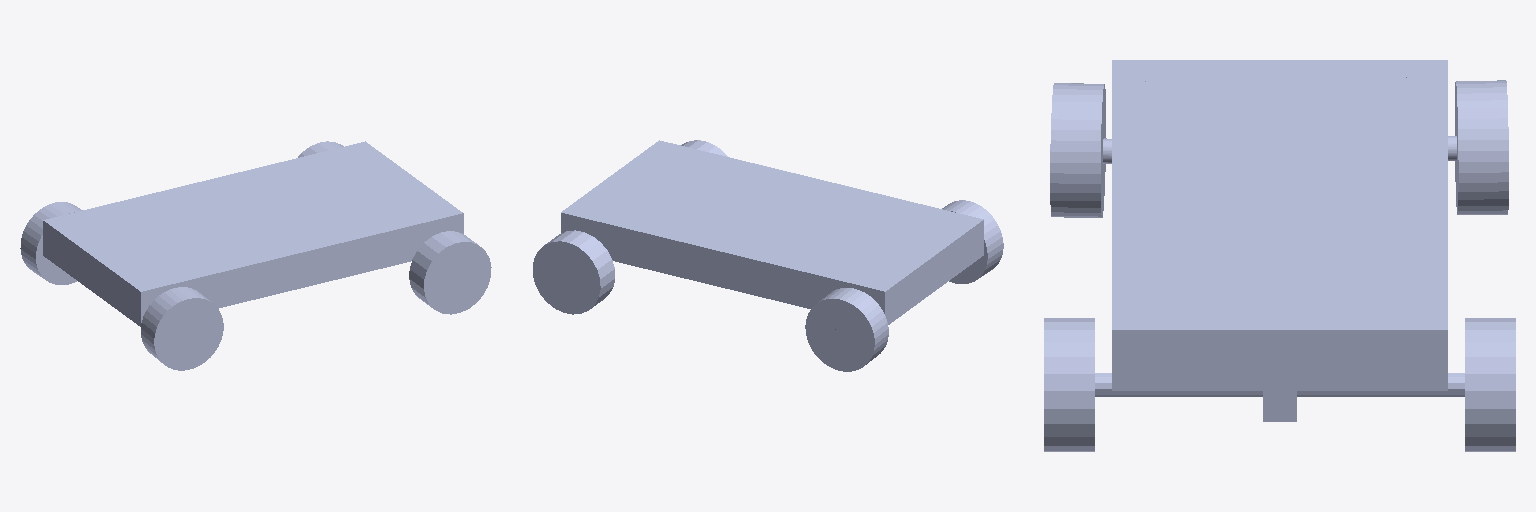
The robot description file, URDF, robot "project1_new_assembly2":
<?xml version="1.0" encoding="utf-8"?>
<!-- This URDF was automatically created by SolidWorks to URDF Exporter! Originally created by [author] ([email redacted]) 
     Commit Version: 1.5.1-0-g916b5db  Build Version: 1.5.7152.31018
     For more information, please see http://wiki.ros.org/sw_urdf_exporter -->
<robot
  name="project1_new_assembly2">
  <link
    name="base_link">
    <inertial>
      <origin
        xyz="0.0059631 0 -0.051314"
        rpy="0 0 0" />
      <mass
        value="49.74" />
      <inertia
        ixx="1.1009"
        ixy="-0.00043013"
        ixz="0.010233"
        iyy="3.9039"
        iyz="9.5286E-18"
        izz="4.9158" />
    </inertial>
    <visual>
      <origin
        xyz="0 0 0"
        rpy="0 0 0" />
      <geometry>
        <mesh
          filename="package://project1_new_assembly2/meshes/base_link.STL" />
      </geometry>
      <material
        name="">
        <color
          rgba="0.79216 0.81961 0.93333 1" />
      </material>
    </visual>
    <collision>
      <origin
        xyz="0 0 0"
        rpy="0 0 0" />
      <geometry>
        <mesh
          filename="package://project1_new_assembly2/meshes/base_link.STL" />
      </geometry>
    </collision>
  </link>
  <link
    name="front_left_Link">
    <inertial>
      <origin
        xyz="0.0319569293194314 -1.38538609029126E-07 0.0793600171802359"
        rpy="0 0 0" />
      <mass
        value="0.404414389551717" />
      <inertia
        ixx="0.000592430878602227"
        ixy="3.69355303175217E-09"
        ixz="-0.000358905617999531"
        iyy="0.0015060372343453"
        iyz="2.24166909807796E-09"
        izz="0.00102373302320884" />
    </inertial>
    <visual>
      <origin
        xyz="0 0 0"
        rpy="0 0 0" />
      <geometry>
        <mesh
          filename="package://project1_new_assembly2/meshes/front_left_Link.STL" />
      </geometry>
      <material
        name="">
        <color
          rgba="0.792156862745098 0.819607843137255 0.933333333333333 1" />
      </material>
    </visual>
    <collision>
      <origin
        xyz="0 0 0"
        rpy="0 0 0" />
      <geometry>
        <mesh
          filename="package://project1_new_assembly2/meshes/front_left_Link.STL" />
      </geometry>
    </collision>
  </link>
  <joint
    name="front_left_joint"
    type="continuous">
    <origin
      xyz="-0.394728266067647 0.1905 0"
      rpy="3.14159265358979 0 1.59986394396619" />
    <parent
      link="base_link" />
    <child
      link="front_left_Link" />
    <axis
      xyz="0 0 1" />
  </joint>
  <link
    name="left_wheel_Link">
    <inertial>
      <origin
        xyz="-2.22044604925031E-16 5.55111512312578E-17 0.0380356347417889"
        rpy="0 0 0" />
      <mass
        value="2.38423603677141" />
      <inertia
        ixx="0.00752282648162997"
        ixy="-3.25260651745651E-19"
        ixz="-9.02598308594182E-18"
        iyy="0.00752282648162997"
        iyz="5.25160427297666E-19"
        izz="0.0127383323810348" />
    </inertial>
    <visual>
      <origin
        xyz="0 0 0"
        rpy="0 0 0" />
      <geometry>
        <mesh
          filename="package://project1_new_assembly2/meshes/left_wheel_Link.STL" />
      </geometry>
      <material
        name="">
        <color
          rgba="0.792156862745098 0.819607843137255 0.933333333333333 1" />
      </material>
    </visual>
    <collision>
      <origin
        xyz="0 0 0"
        rpy="0 0 0" />
      <geometry>
        <mesh
          filename="package://project1_new_assembly2/meshes/left_wheel_Link.STL" />
      </geometry>
    </collision>
  </link>
  <joint
    name="left_wheel_joint"
    type="continuous">
    <origin
      xyz="0.0762643652582112 0 0.107130880808135"
      rpy="-1.5707963267949 -0.224481624191279 -1.5707963267949" />
    <parent
      link="front_left_Link" />
    <child
      link="left_wheel_Link" />
    <axis
      xyz="0 0 1" />
  </joint>
  <link
    name="front_right_link">
    <inertial>
      <origin
        xyz="0.0319569191562081 -1.32961308851876E-07 0.0793599993091346"
        rpy="0 0 0" />
      <mass
        value="0.404414316871475" />
      <inertia
        ixx="0.000592430716349144"
        ixy="3.80632177229354E-09"
        ixz="-0.000358905176708758"
        iyy="0.00150603664519804"
        iyz="2.27222067913195E-09"
        izz="0.00102373295070293" />
    </inertial>
    <visual>
      <origin
        xyz="0 0 0"
        rpy="0 0 0" />
      <geometry>
        <mesh
          filename="package://project1_new_assembly2/meshes/front_right_link.STL" />
      </geometry>
      <material
        name="">
        <color
          rgba="0.792156862745098 0.819607843137255 0.933333333333333 1" />
      </material>
    </visual>
    <collision>
      <origin
        xyz="0 0 0"
        rpy="0 0 0" />
      <geometry>
        <mesh
          filename="package://project1_new_assembly2/meshes/front_right_link.STL" />
      </geometry>
    </collision>
  </link>
  <joint
    name="front_right_joint"
    type="continuous">
    <origin
      xyz="-0.383763592010211 -0.190500000000004 0"
      rpy="3.14159265358979 0 -1.61356916781223" />
    <parent
      link="base_link" />
    <child
      link="front_right_link" />
    <axis
      xyz="0 0 1" />
  </joint>
  <link
    name="right_wheel_Link">
    <inertial>
      <origin
        xyz="-1.11022302462516E-16 2.22044604925031E-16 0.049873932514224"
        rpy="0 0 0" />
      <mass
        value="2.38423603677141" />
      <inertia
        ixx="0.00752282648162996"
        ixy="-1.0842021724855E-18"
        ixz="-5.2583805365547E-18"
        iyy="0.00752282648162996"
        iyz="5.74627151417317E-18"
        izz="0.0127383323810348" />
    </inertial>
    <visual>
      <origin
        xyz="0 0 0"
        rpy="0 0 0" />
      <geometry>
        <mesh
          filename="package://project1_new_assembly2/meshes/right_wheel_Link.STL" />
      </geometry>
      <material
        name="">
        <color
          rgba="0.792156862745098 0.819607843137255 0.933333333333333 1" />
      </material>
    </visual>
    <collision>
      <origin
        xyz="0 0 0"
        rpy="0 0 0" />
      <geometry>
        <mesh
          filename="package://project1_new_assembly2/meshes/right_wheel_Link.STL" />
      </geometry>
    </collision>
  </link>
  <joint
    name="right_wheel_joint"
    type="continuous">
    <origin
      xyz="0.0644260674857717 0 0.107130880808135"
      rpy="-1.57079632679489 -1.07253972709559 -1.5707963267949" />
    <parent
      link="front_right_link" />
    <child
      link="right_wheel_Link" />
    <axis
      xyz="0 0 1" />
  </joint>
  <link
    name="back_wheel_link">
    <inertial>
      <origin
        xyz="0 0 -0.3556"
        rpy="0 0 0" />
      <mass
        value="5.58169927040889" />
      <inertia
        ixx="0.529989587537453"
        ixy="0"
        ixz="7.5889604593319E-17"
        iyy="0.529989587537453"
        iyz="2.92959063005097E-17"
        izz="0.0256247200746932" />
    </inertial>
    <visual>
      <origin
        xyz="0 0 0"
        rpy="0 0 0" />
      <geometry>
        <mesh
          filename="package://project1_new_assembly2/meshes/back_wheel_link.STL" />
      </geometry>
      <material
        name="">
        <color
          rgba="0.792156862745098 0.819607843137255 0.933333333333333 1" />
      </material>
    </visual>
    <collision>
      <origin
        xyz="0 0 0"
        rpy="0 0 0" />
      <geometry>
        <mesh
          filename="package://project1_new_assembly2/meshes/back_wheel_link.STL" />
      </geometry>
    </collision>
  </link>
  <joint
    name="back_wheel_joint"
    type="continuous">
    <origin
      xyz="0.406399999999997 0.3556 -0.126999999999999"
      rpy="1.5707963267949 -0.967355128284559 -3.14159265358979" />
    <parent
      link="base_link" />
    <child
      link="back_wheel_link" />
    <axis
      xyz="0 0 1" />
  </joint>
</robot>

--- Render facts (derived) ---
3 views of the same robot in one strip: view 1: azimuth 30°, elevation 25°; view 2: azimuth 150°, elevation 25°; view 3: azimuth 270°, elevation 25° (orthographic).
Model project1_new_assembly2 with 6 links and 5 joints (5 continuous), rooted at base_link, posed all joints at 0.
Visible links, largest first — view 1: base_link, back_wheel_link, right_wheel_Link, left_wheel_Link; view 2: base_link, back_wheel_link, left_wheel_Link, right_wheel_Link; view 3: base_link, back_wheel_link, right_wheel_Link, left_wheel_Link, front_right_link, front_left_Link.
Boxes of the visible links, x1,y1,x2,y2 form: base_link: [43, 141, 463, 326]; back_wheel_link: [298, 141, 491, 314]; right_wheel_Link: [141, 287, 223, 370]; left_wheel_Link: [20, 202, 82, 284]; base_link: [561, 140, 983, 324]; back_wheel_link: [533, 140, 727, 314]; left_wheel_Link: [805, 288, 888, 371]; right_wheel_Link: [942, 200, 1003, 283]; base_link: [1112, 60, 1447, 421]; back_wheel_link: [1044, 318, 1515, 451]; right_wheel_Link: [1050, 83, 1105, 217]; left_wheel_Link: [1455, 80, 1508, 214]; front_right_link: [1103, 81, 1170, 163]; front_left_Link: [1389, 78, 1456, 160].
Bounding box of the posed robot: 1.01 × 0.7112 × 0.2283 m (x, y, z).
Meshes: 6 distinct files referenced, 6 mesh visuals loaded (6 binary STL).